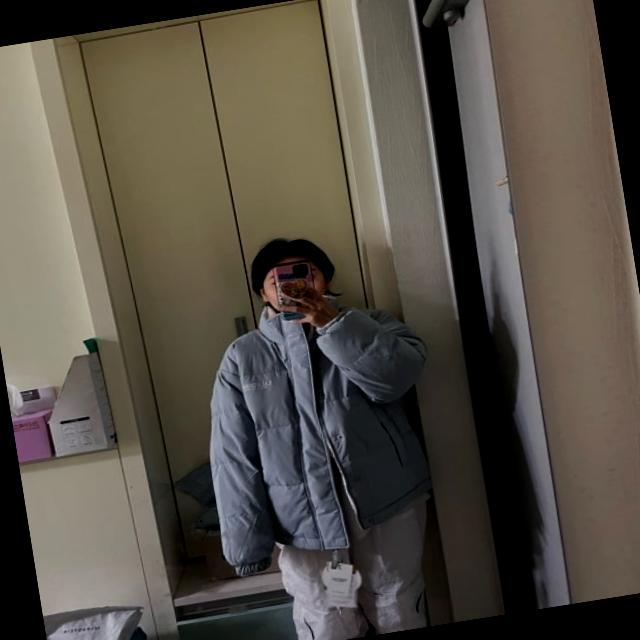cottonpants: (267, 486, 447, 640)
padding: (187, 294, 458, 582)
